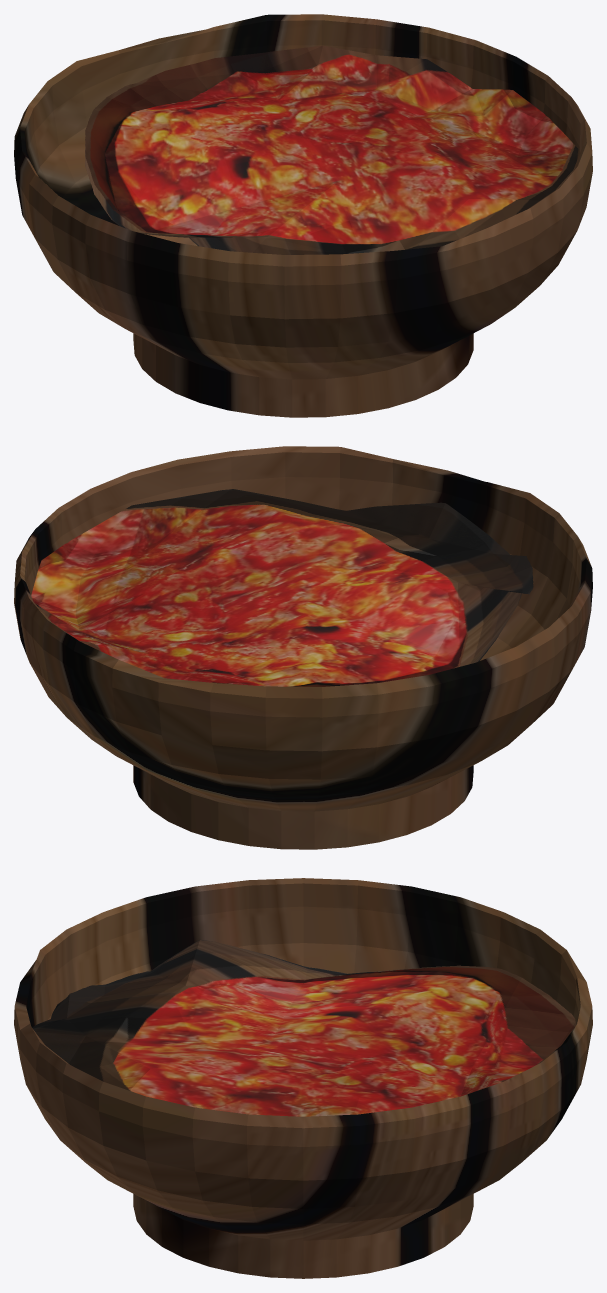
The model's file is Sambal.fbx.
3 renders of one model, top to bottom at view 1: azimuth 30°, elevation 25°; view 2: azimuth 150°, elevation 25°; view 3: azimuth 270°, elevation 25°, orthographic.
Visible parts, largest first — view 1: Bowl, Sambal; view 2: Bowl, Sambal; view 3: Bowl, Sambal.
Part boxes in pixels (x1,y1,x2,y2): Bowl: (14,14,592,417); Sambal: (85,45,578,254); Bowl: (14,446,592,849); Sambal: (31,489,533,686); Bowl: (14,878,592,1278); Sambal: (32,939,576,1116).
Size of the model in its own units: 403 by 162 by 403.
